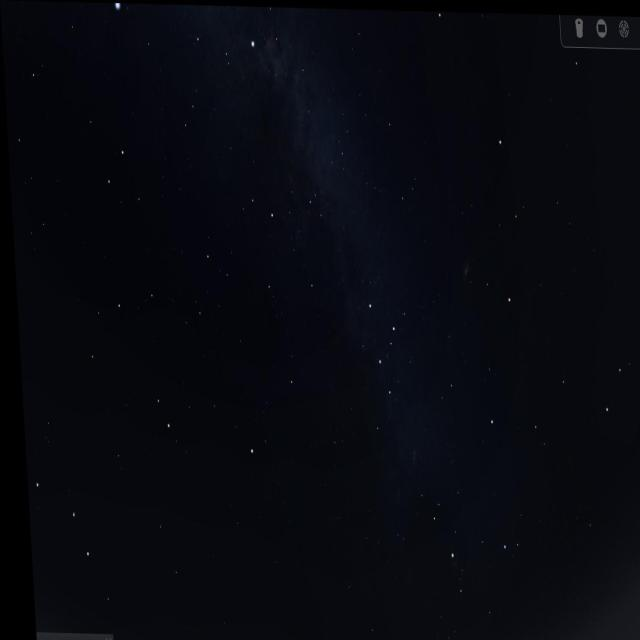cassiopeia: (357, 271, 401, 437)
